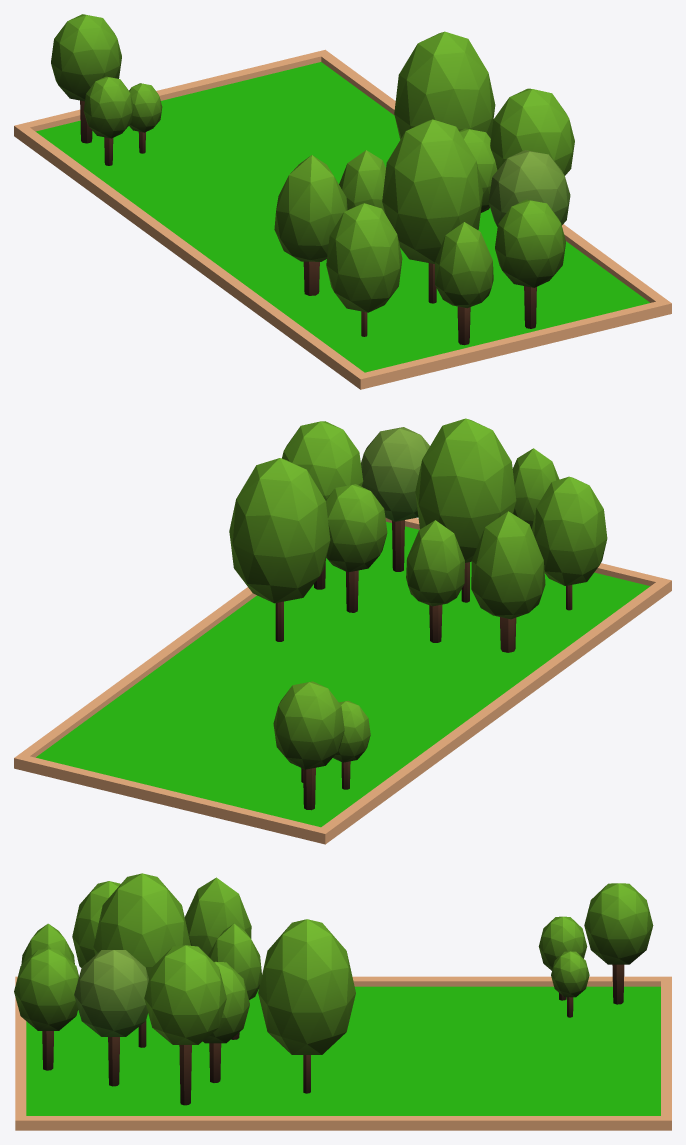
File: block2.fbx
3 renders of one model, top to bottom at view 1: azimuth 30°, elevation 25°; view 2: azimuth 150°, elevation 25°; view 3: azimuth 270°, elevation 25°, orthographic. The views are drawn at different scales.
Parts seen in each view (by area): view 1: Cube.552; view 2: Cube.552; view 3: Cube.552.
Part boxes in pixels (x1=…): Cube.552: x1=14, y1=14, x2=671, y2=389; Cube.552: x1=14, y1=418, x2=671, y2=844; Cube.552: x1=14, y1=873, x2=671, y2=1130.
Bounding box in the file's own units: 28.34 × 17.57 × 54.75.
Materials: 1 (1 with a texture image).
